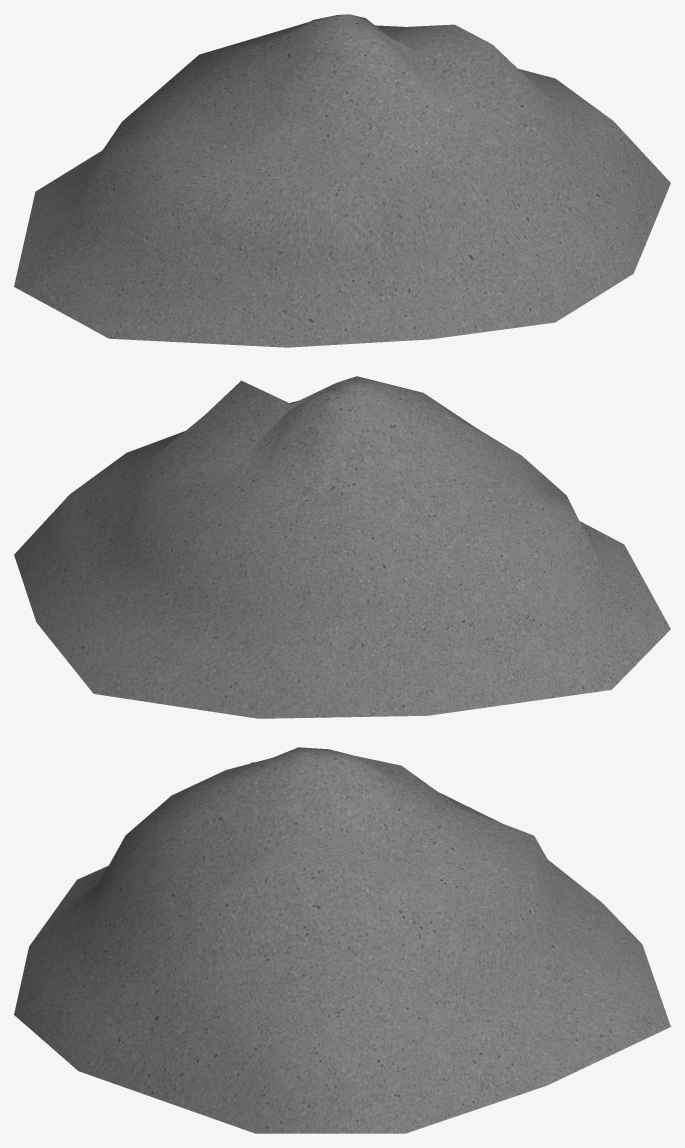
The model's file is 混凝土.fbx.
The picture shows the model from 3 angles, top to bottom: view 1: azimuth 30°, elevation 25°; view 2: azimuth 150°, elevation 25°; view 3: azimuth 270°, elevation 25°; orthographic projection. The views are drawn at different scales.
Parts seen in each view (by area): view 1: hunningtu; view 2: hunningtu; view 3: hunningtu.
Part boxes in pixels (<box>): hunningtu: <box>14,14,670,347</box>; hunningtu: <box>14,376,670,718</box>; hunningtu: <box>14,747,670,1133</box>.
Size of the model in its own units: 158 by 53.17 by 142.
